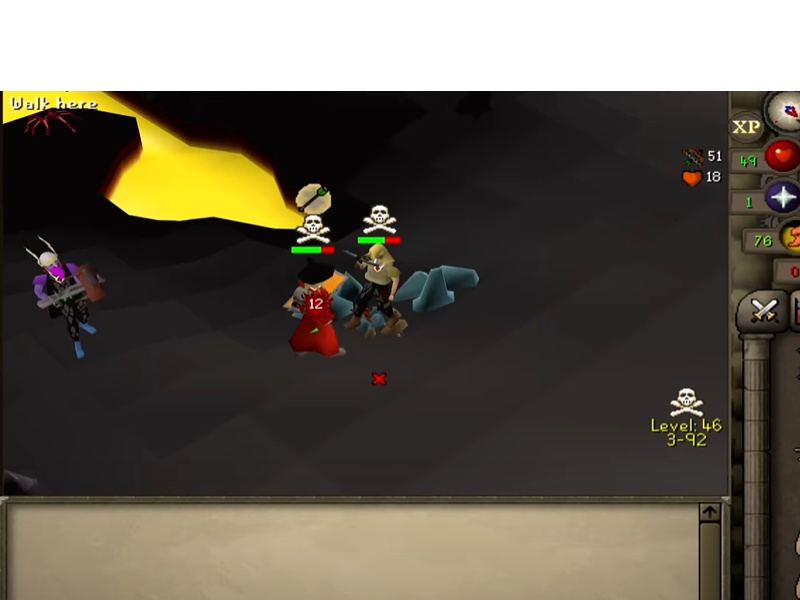rune: (392, 263, 483, 317), (316, 271, 368, 320)
